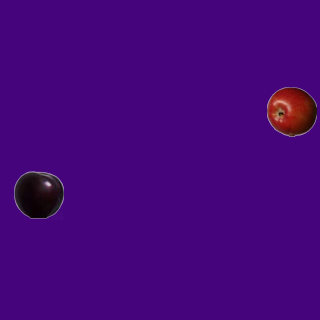Apple Braeburn: (266, 86, 316, 136)
Cherry Wax Black: (13, 169, 63, 219)
